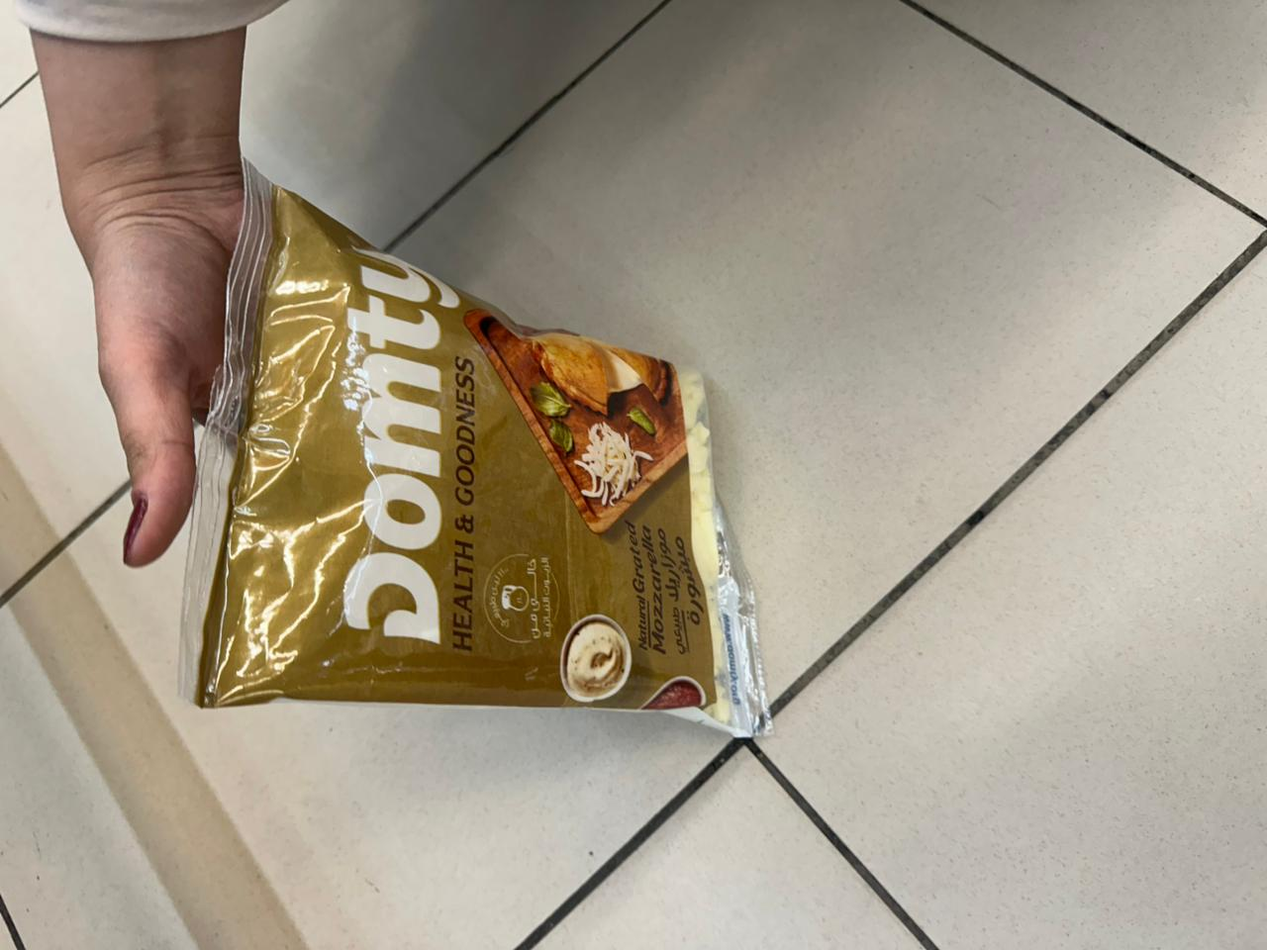mozzarella: (182, 167, 768, 734)
